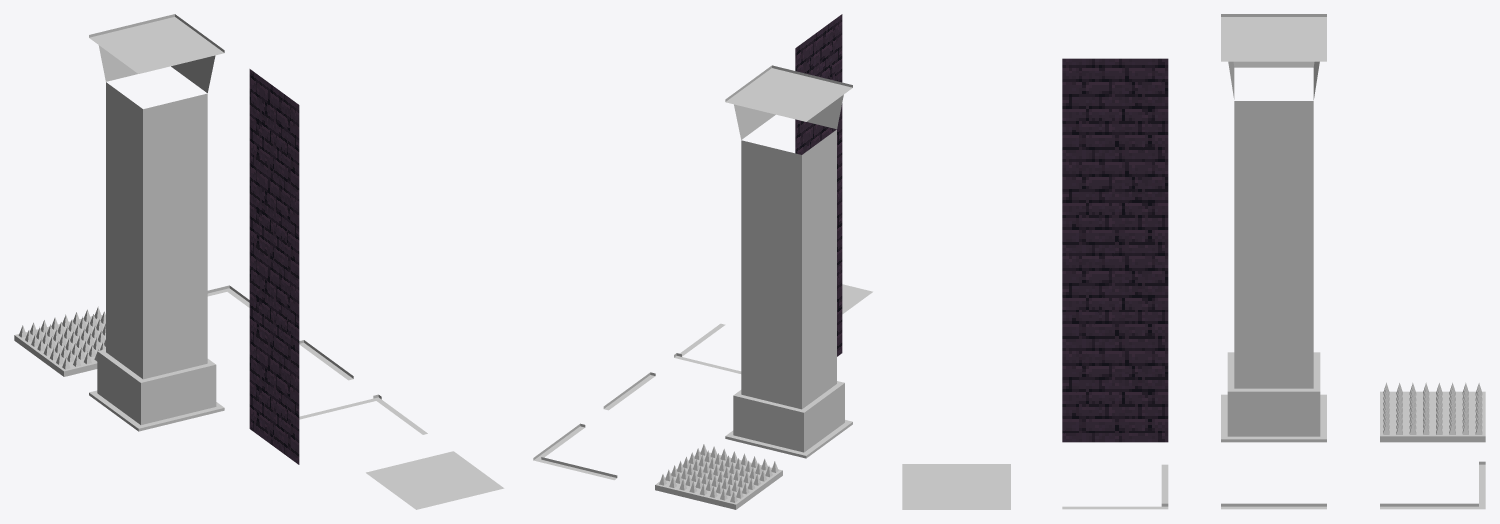
File: tiles.glb
The picture shows the model from 3 angles, left to right: view 1: azimuth 30°, elevation 25°; view 2: azimuth 150°, elevation 25°; view 3: azimuth 270°, elevation 25°; orthographic projection. The views are drawn at different scales.
Visible parts, largest first — view 1: pillar, simple_wall, Plane, Spike, Base, littledick; view 2: pillar, simple_wall, Spike, Base, corner, Plane, littledick, one_side; view 3: simple_wall, pillar, Plane, Base, Spike, corner, littledick, one_side.
Boxes of the visible parts, x1,y1,x2,y2 form: pillar: (89, 14, 224, 431); simple_wall: (249, 69, 299, 464); Plane: (366, 451, 504, 509); Spike: (18, 306, 105, 369); Base: (14, 315, 105, 376); littledick: (299, 394, 427, 434); pillar: (725, 65, 852, 458); simple_wall: (795, 14, 842, 356); Spike: (659, 444, 778, 502); Base: (655, 451, 782, 509); corner: (533, 423, 617, 480); Plane: (842, 284, 872, 314); littledick: (674, 323, 741, 373); one_side: (603, 372, 655, 410); simple_wall: (1062, 58, 1168, 442); pillar: (1221, 14, 1326, 442); Plane: (902, 464, 1010, 509); Base: (1380, 391, 1485, 442); Spike: (1383, 382, 1482, 434); corner: (1380, 461, 1485, 509); littledick: (1062, 464, 1168, 509); one_side: (1221, 503, 1326, 509).
Bounding box in the file's own units: 5.03 × 8 × 11.03.
1 material, 1 textured.
